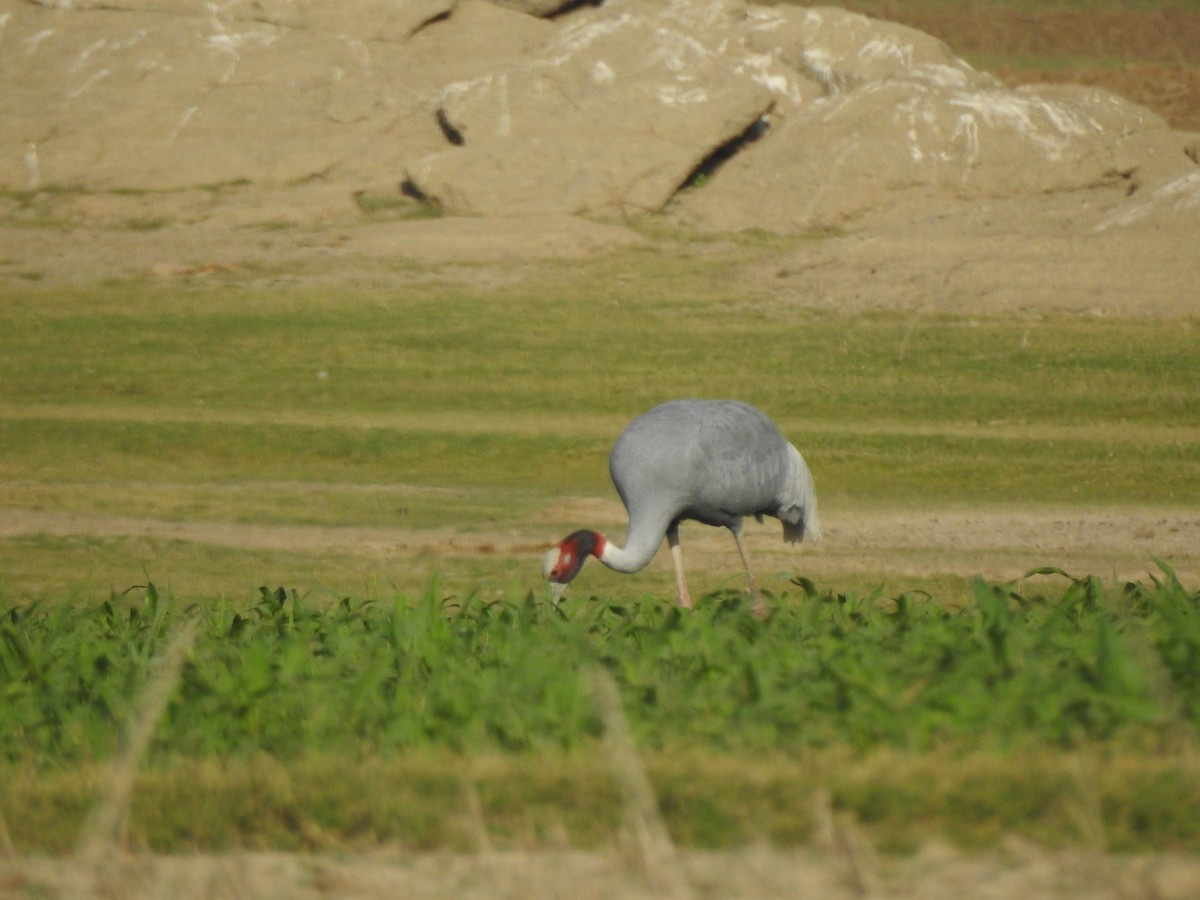crane: (543, 388, 822, 639)
